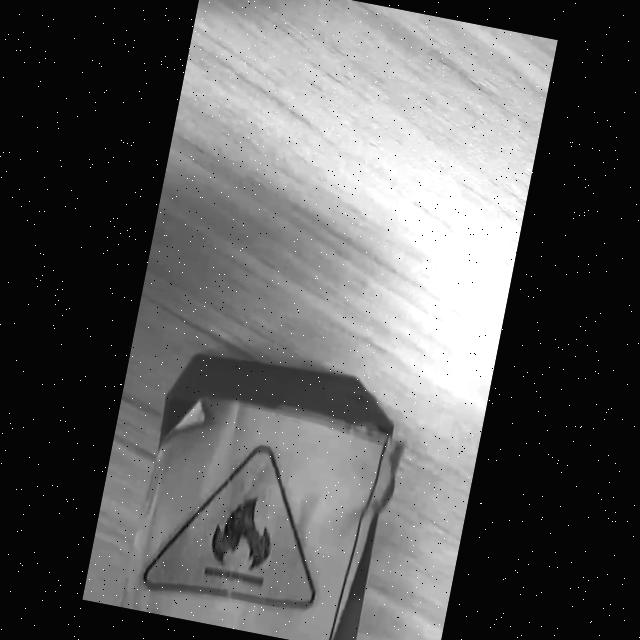Fire: (144, 446, 315, 608)
